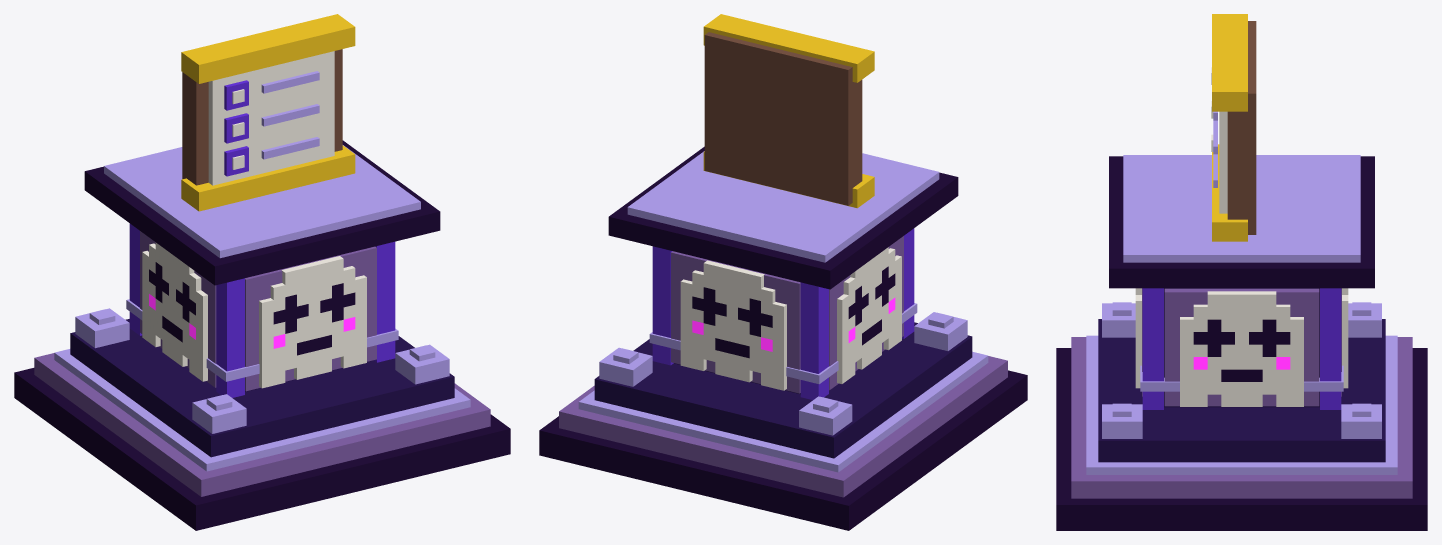
Rendered from task-tier-1.glb.
3 views of the same model, side by side, from view 1: azimuth 30°, elevation 25°; view 2: azimuth 150°, elevation 25°; view 3: azimuth 270°, elevation 25° (orthographic). The views are drawn at different scales.
Parts seen in each view (by area): view 1: base-ink, base-lavender, base-deep, base-stone, base-cream, crown-cream, crown-gold, base-purple, crown-wood, crown-lavender, crown-purple; view 2: base-ink, base-lavender, crown-wood, base-deep, base-stone, base-cream, base-purple, crown-gold; view 3: base-lavender, base-ink, base-deep, base-stone, base-cream, base-purple, crown-gold, crown-wood, crown-cream.
Boxes of the visible parts, box(x1,y1,x2,y2) form: base-ink: box(14, 140, 510, 530); base-lavender: box(54, 145, 470, 471); base-deep: box(70, 319, 454, 457); base-stone: box(34, 231, 490, 496); base-cream: box(142, 242, 366, 388); crown-cream: box(208, 51, 334, 185); crown-gold: box(181, 14, 355, 211); base-purple: box(129, 223, 395, 397); crown-wood: box(182, 49, 342, 185); crown-lavender: box(261, 71, 319, 159); crown-purple: box(224, 80, 248, 176); base-ink: box(539, 146, 1027, 530); base-lavender: box(578, 151, 988, 472); crown-wood: box(704, 32, 862, 205); base-deep: box(594, 322, 972, 458); base-stone: box(559, 236, 1007, 497); base-cream: box(680, 247, 901, 390); base-purple: box(652, 228, 914, 399); crown-gold: box(703, 14, 874, 208); base-lavender: box(1086, 155, 1397, 474); base-ink: box(1056, 156, 1427, 530); base-deep: box(1098, 288, 1385, 462); base-stone: box(1071, 288, 1412, 498); base-cream: box(1135, 288, 1348, 406); base-purple: box(1142, 288, 1341, 409); crown-gold: box(1212, 14, 1247, 241); crown-wood: box(1227, 21, 1256, 234); crown-cream: box(1211, 67, 1227, 213).
Bounding box in the file's own units: 3.1 × 3.68 × 3.1.
